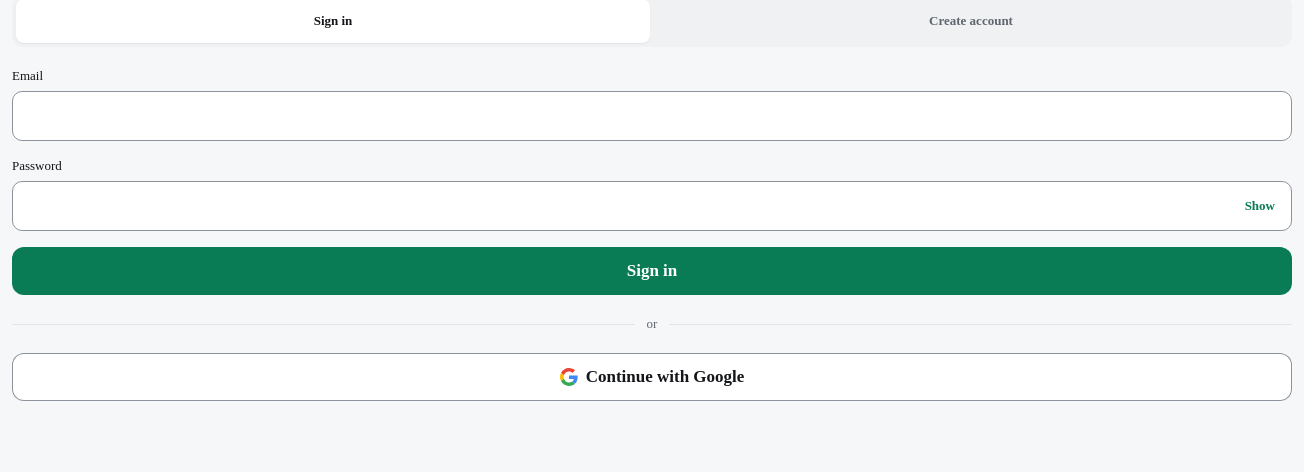
Test case: LoginForm › explains a wrong password without echoing it
This screenshot has width=1304, height=472.
Type "a@b.co" into the field labelled "Email" at (652, 116), box left=13, top=92, right=1291, bottom=140
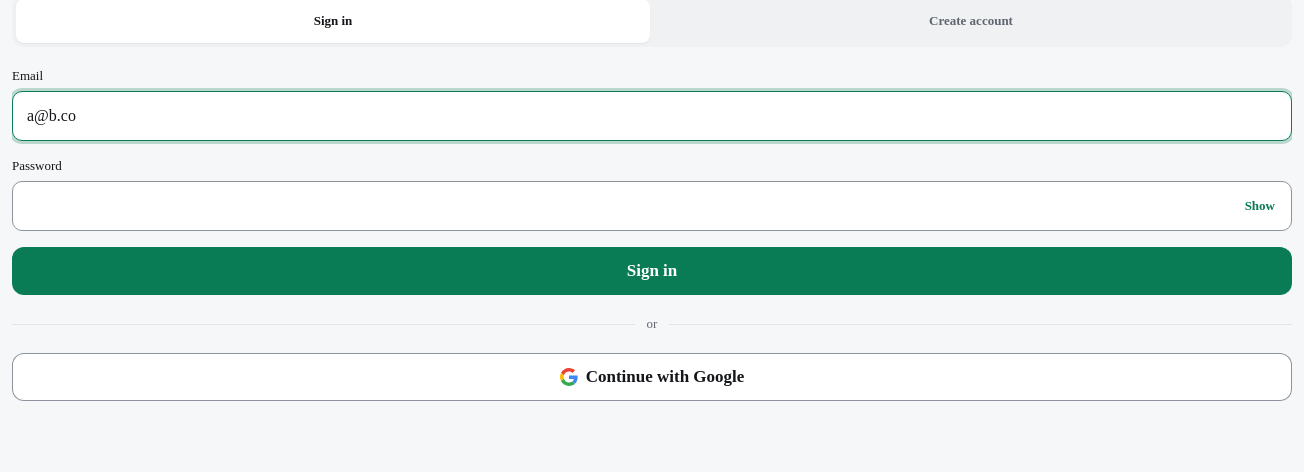
Type "secret1" into the password field labelled "Password" at (623, 206), box left=13, top=182, right=1233, bottom=230
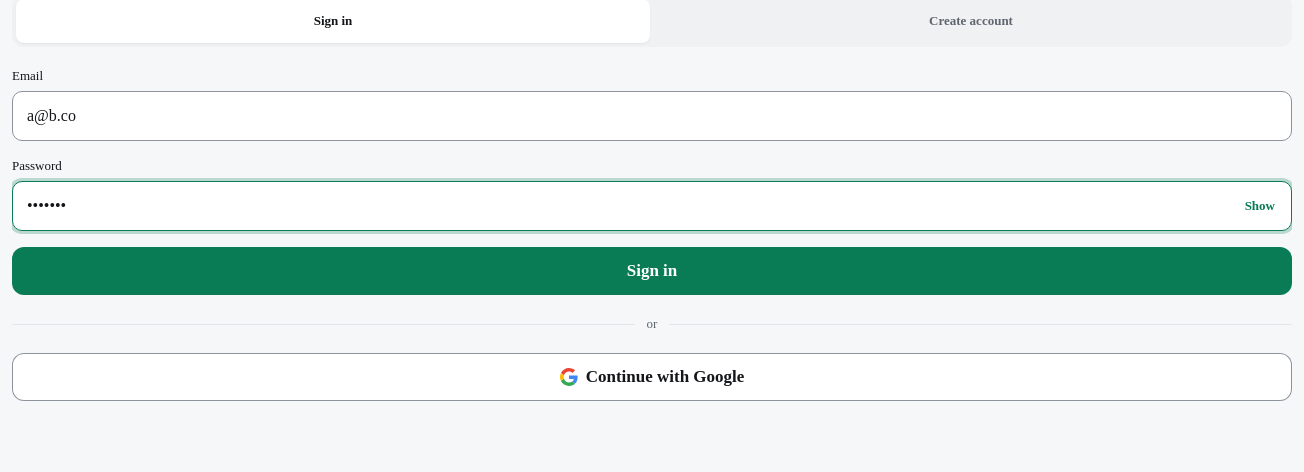
Click the button "Sign in" at (652, 271), box left=12, top=247, right=1292, bottom=295
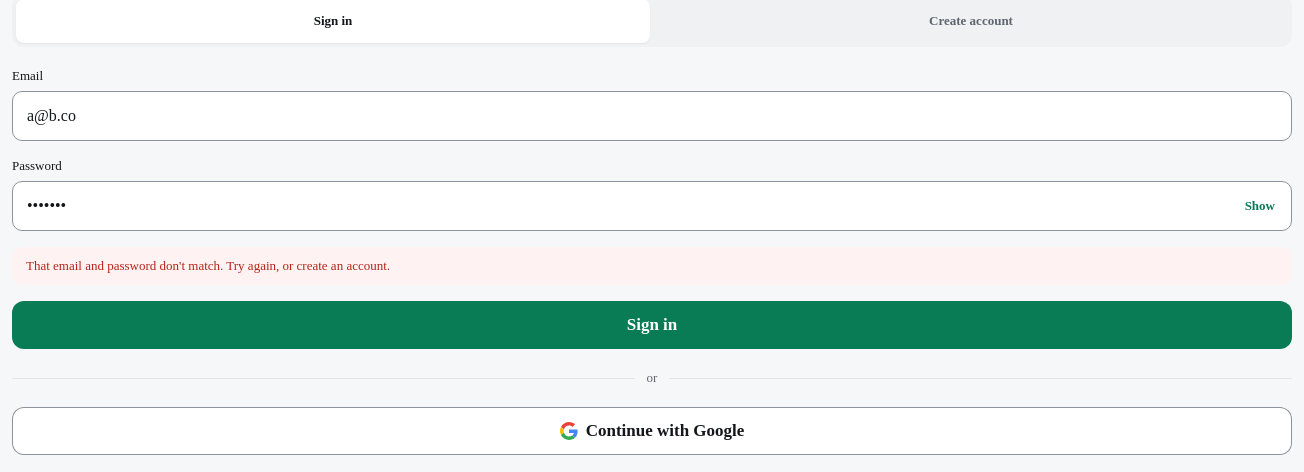
Expected: the message does not show "secret1", left=12, top=247, right=1292, bottom=285
Expected: the message shows "don't match", left=26, top=258, right=390, bottom=273
